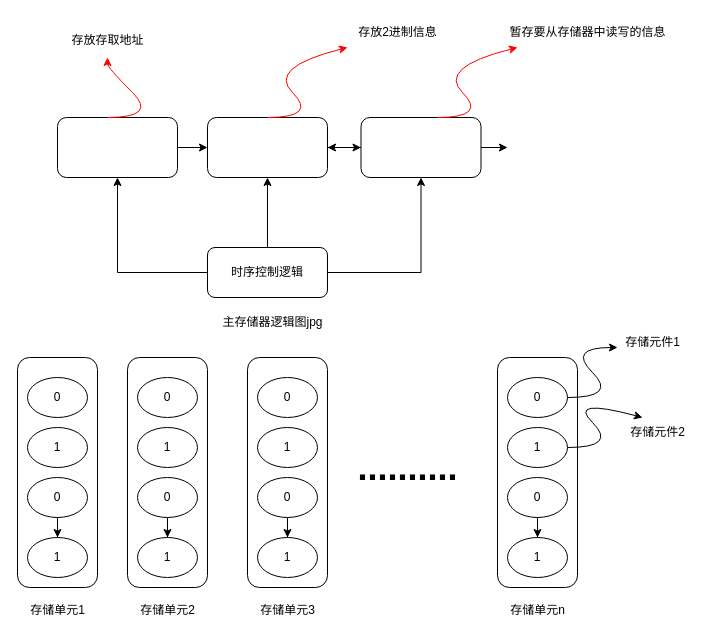
Some shapes in this 715 by 642 pixel diagram are drawn without their labels. Here are the shapes that lost their labels. From the top down, the centre of each, then its label:
point 117,147: 地址寄存器 MAR
point 267,147: 存储体
point 420,147: 数据寄存器 MDR
